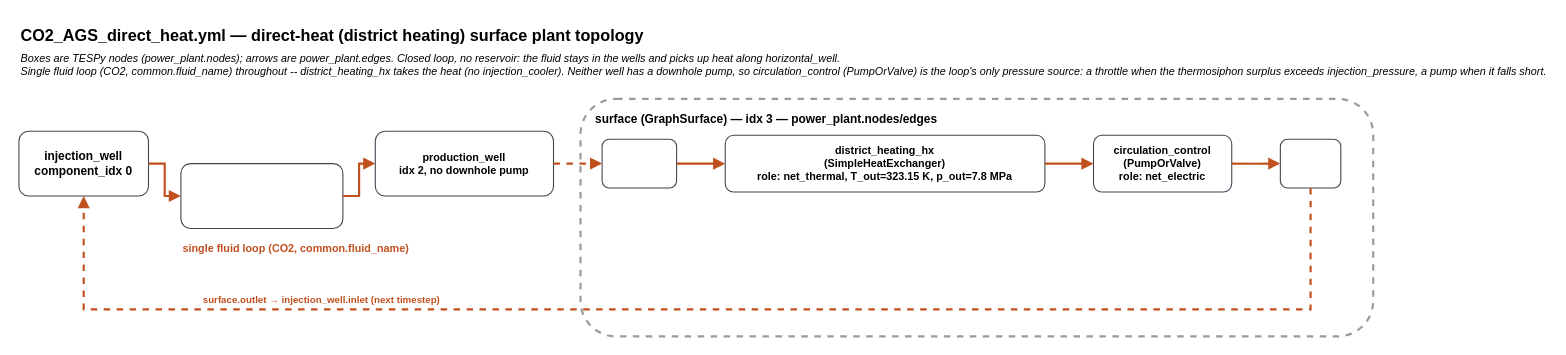
The diagram is 1566 pixels wide and 355 high, and some of its shapes have lost their labels. Each missing label, with the box of its shape:
horizontal_well (loop) idx 1, heat exchange: (180, 163, 343, 228)
inlet (Source): (601, 138, 677, 188)
outlet (Sink): (1279, 138, 1341, 188)
